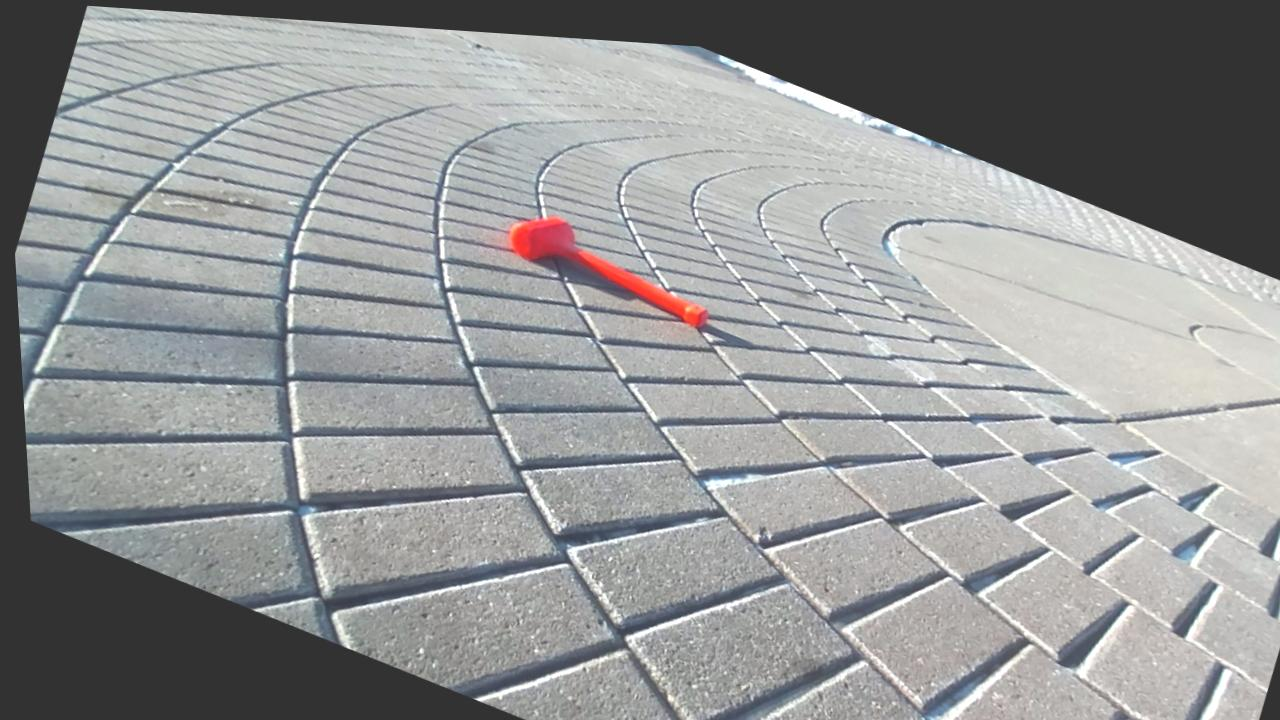mallet: (509, 216, 707, 325)
